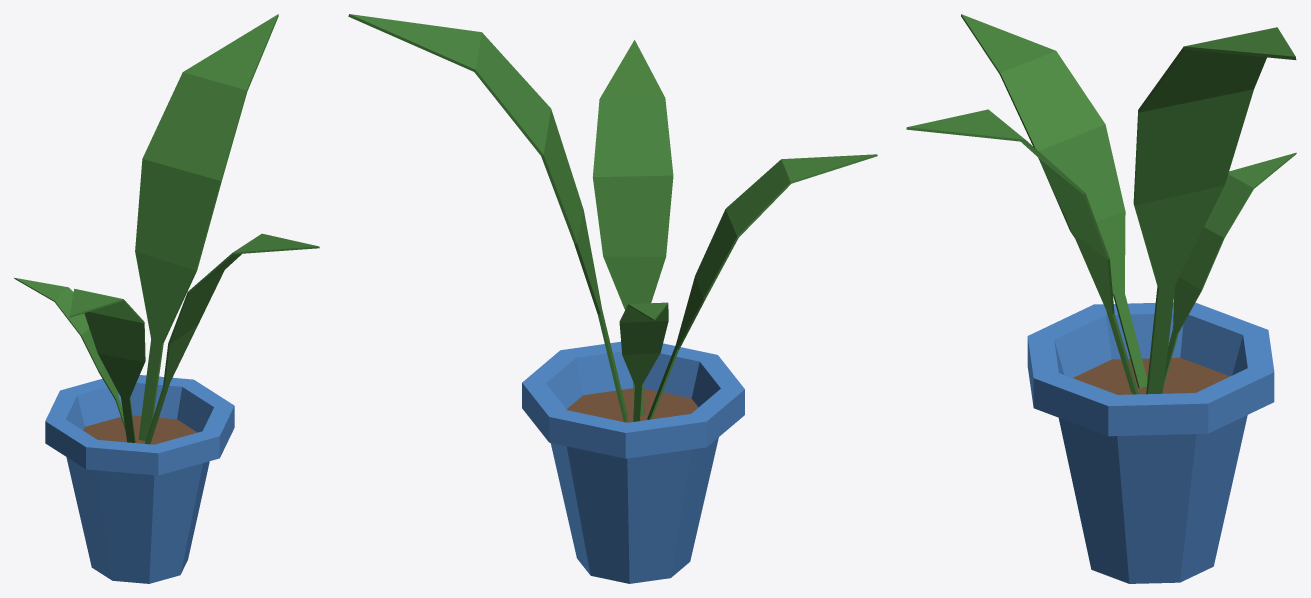
Rendered from Flower_11.fbx.
The picture shows the model from 3 angles, left to right: view 1: azimuth 30°, elevation 25°; view 2: azimuth 150°, elevation 25°; view 3: azimuth 270°, elevation 25°; orthographic projection. The views are drawn at different scales.
Visible parts, largest first — view 1: Flower_11; view 2: Flower_11; view 3: Flower_11.
Boxes of the visible parts, <box> form: Flower_11: <box>14,14,319,583</box>; Flower_11: <box>348,14,877,583</box>; Flower_11: <box>906,14,1296,583</box>.
Size of the model in its own units: 51.84 by 38.88 by 68.96.
